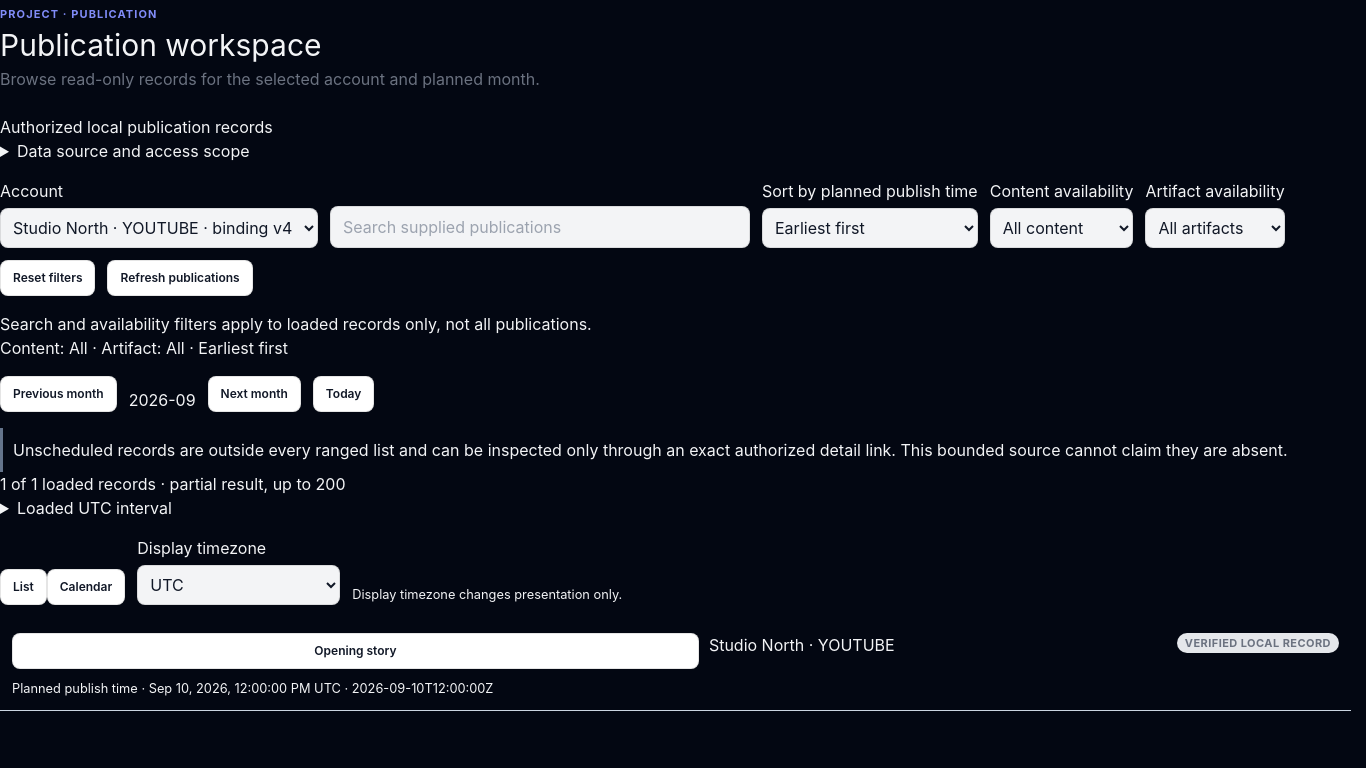
authorized Publication workspace › loads corrected endpoint detail and represents absent content, version, Artifact, plan and outcomes without inventing a graph
The width and height of the screenshot is (1366, 768).
Click the button "Opening story": (355, 650) [12, 632, 699, 668]
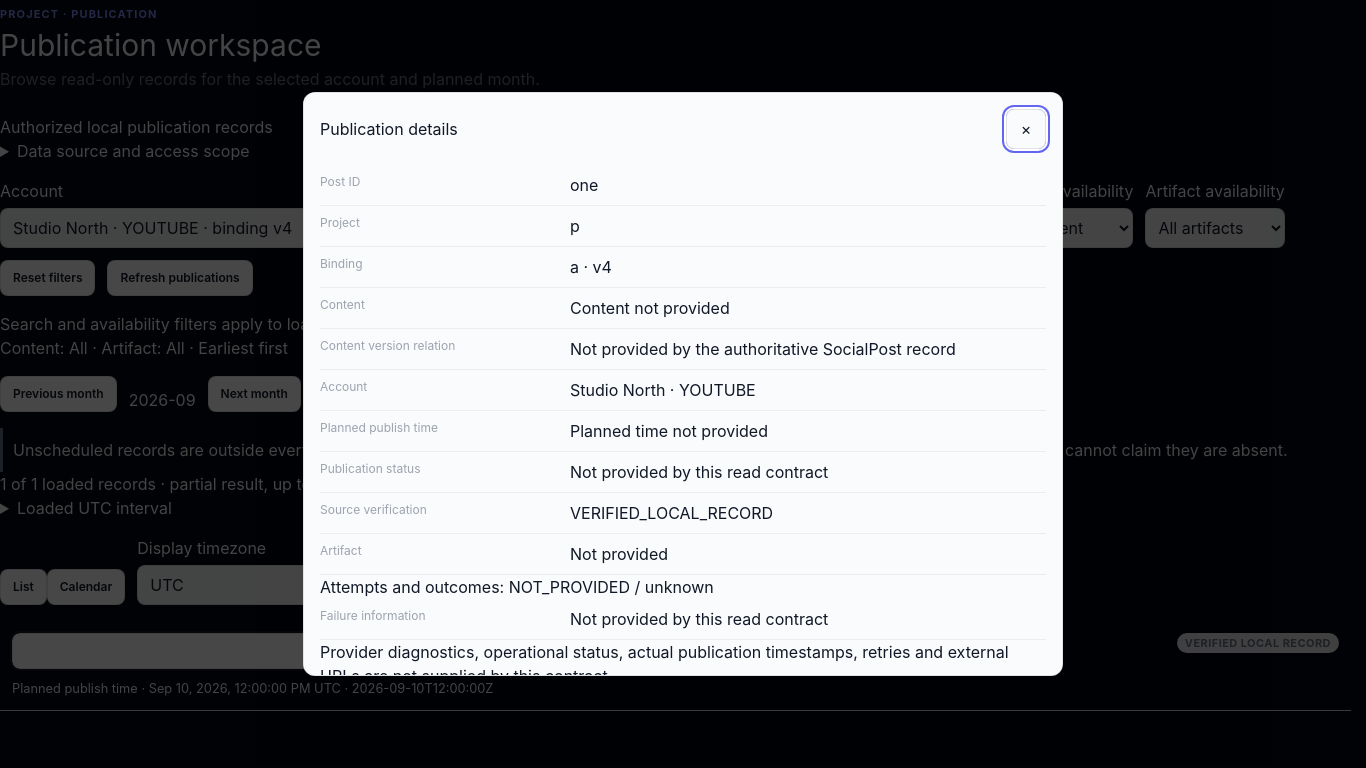
Expected: the dialog shows "Content not provided", [570, 298, 730, 318]
Expected: the dialog shows "Planned time not provided", [570, 421, 768, 441]
Expected: the dialog shows "Not provided by the authoritative SocialPost record", [570, 339, 956, 359]
